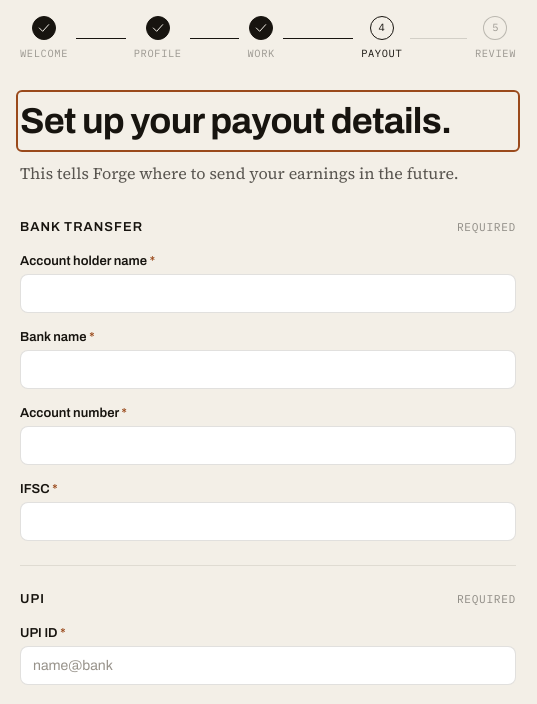
PayoutStep — K10 IFSC resolution › shows resolved bank/branch/city/state metadata for a valid, known IFSC
The image size is (537, 704).
In the field labelled "IFSC *": (268, 521) [20,502,516,541], type "HDFC0001234"
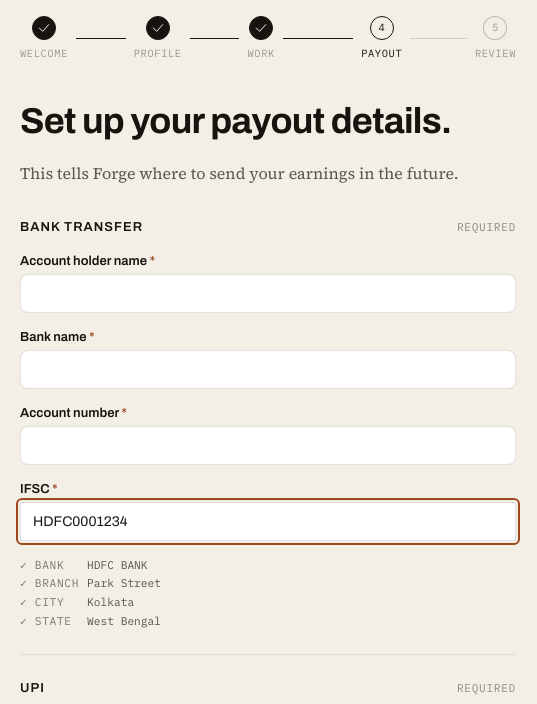
Expected: the text "Park Street" is shown, [87,576,161,590]
Expected: the text "Kolkata" is shown, [87,595,134,609]
Expected: the text "West Bengal" is shown, [87,614,161,628]
